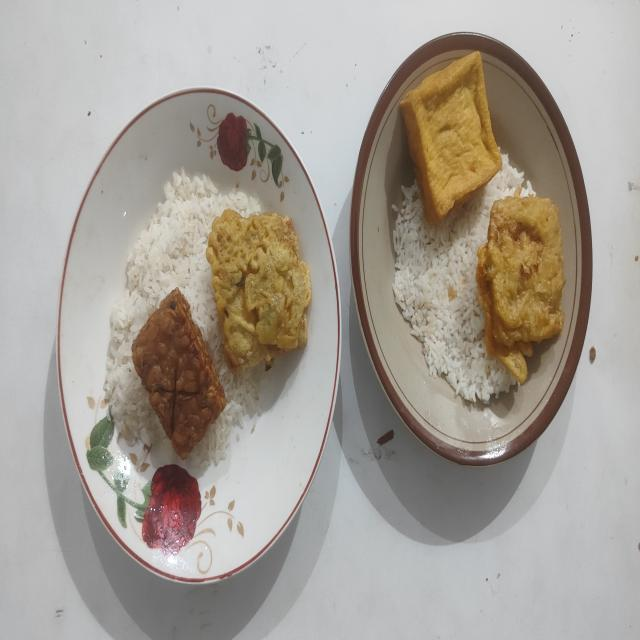nasi_putih: (104, 170, 261, 464), (392, 154, 536, 401)
tahu_goreng: (399, 51, 501, 222)
tempe_goreng: (132, 288, 226, 460)
